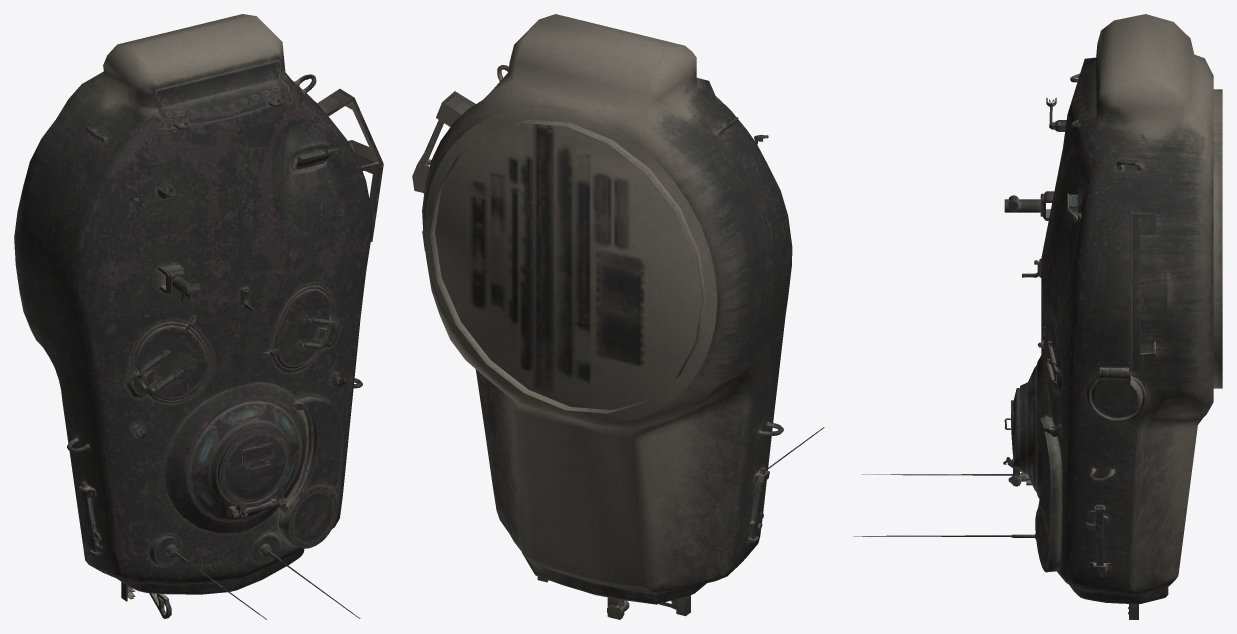
The model's file is Turret_01.glb.
3 renders of one model, left to right at view 1: azimuth 30°, elevation 25°; view 2: azimuth 150°, elevation 25°; view 3: azimuth 270°, elevation 25°, orthographic. The views are drawn at different scales.
Visible parts, largest first — view 1: set_0_group_0; view 2: set_0_group_0; view 3: set_0_group_0.
Part boxes in pixels (<box>): set_0_group_0: <box>14,14,383,619</box>; set_0_group_0: <box>412,14,824,619</box>; set_0_group_0: <box>853,14,1222,619</box>.
Size of the model in its own units: 2.84 by 4.48 by 2.7.
Materials: 1 (1 with a texture image).
